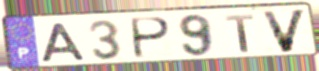3: (88, 18, 126, 62)
9: (176, 12, 215, 59)
A: (40, 21, 89, 64)
P: (131, 16, 173, 60)
T: (224, 13, 256, 54)
V: (259, 8, 310, 54)
